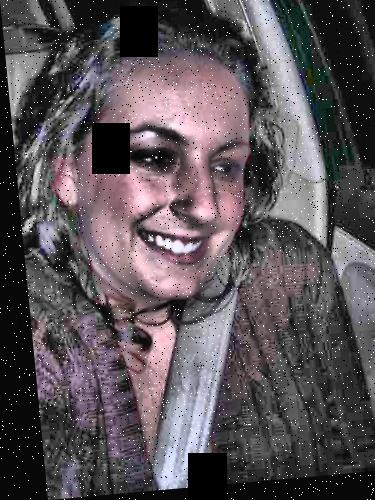seatbelt: (130, 195, 265, 464)
